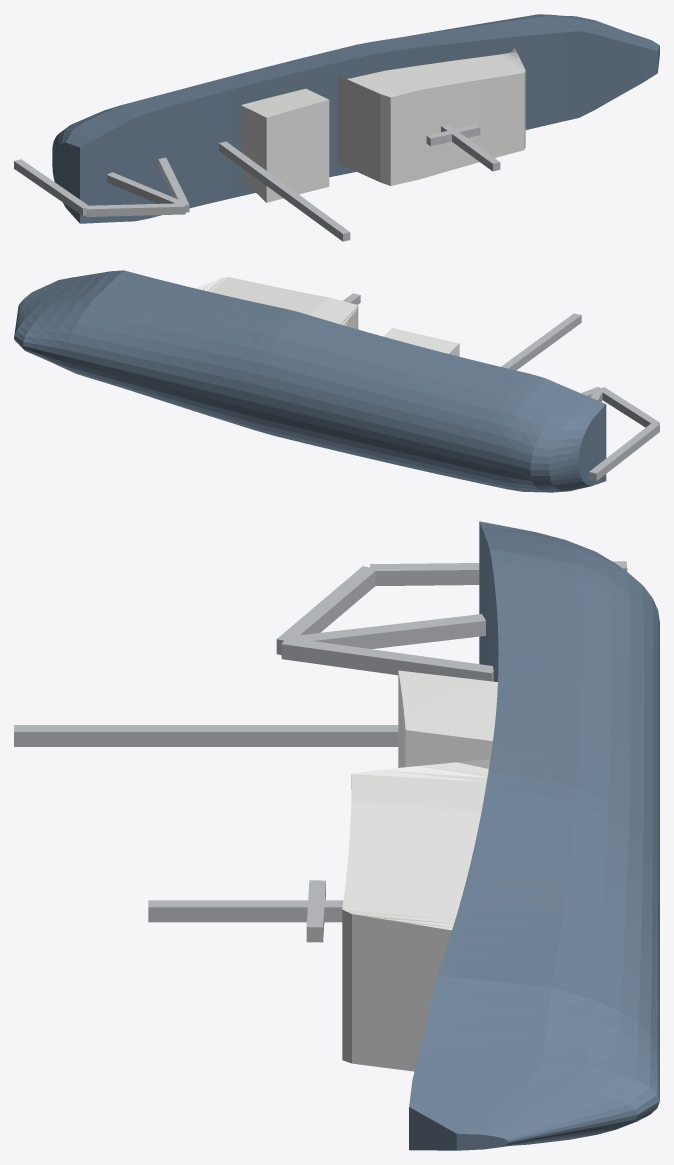
Rendered from mine-clearance-loft-sheered.glb.
3 renders of one model, top to bottom at view 1: azimuth 30°, elevation 25°; view 2: azimuth 150°, elevation 25°; view 3: azimuth 270°, elevation 25°, orthographic. The views are drawn at different scales.
Parts seen in each view (by area): view 1: mine-clearance-loft-sheered; view 2: mine-clearance-loft-sheered; view 3: mine-clearance-loft-sheered.
Boxes of the visible parts, box(x1,y1,x2,y2) form: mine-clearance-loft-sheered: box(14, 14, 659, 241); mine-clearance-loft-sheered: box(14, 270, 659, 492); mine-clearance-loft-sheered: box(14, 521, 659, 1150).
Bounding box in the file's own units: 1.96 × 0.3563 × 0.934.
